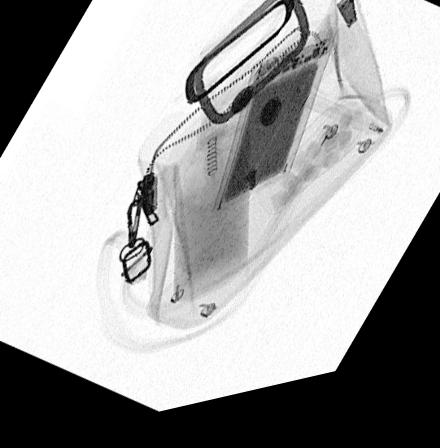Powerbank: (213, 45, 335, 222)
